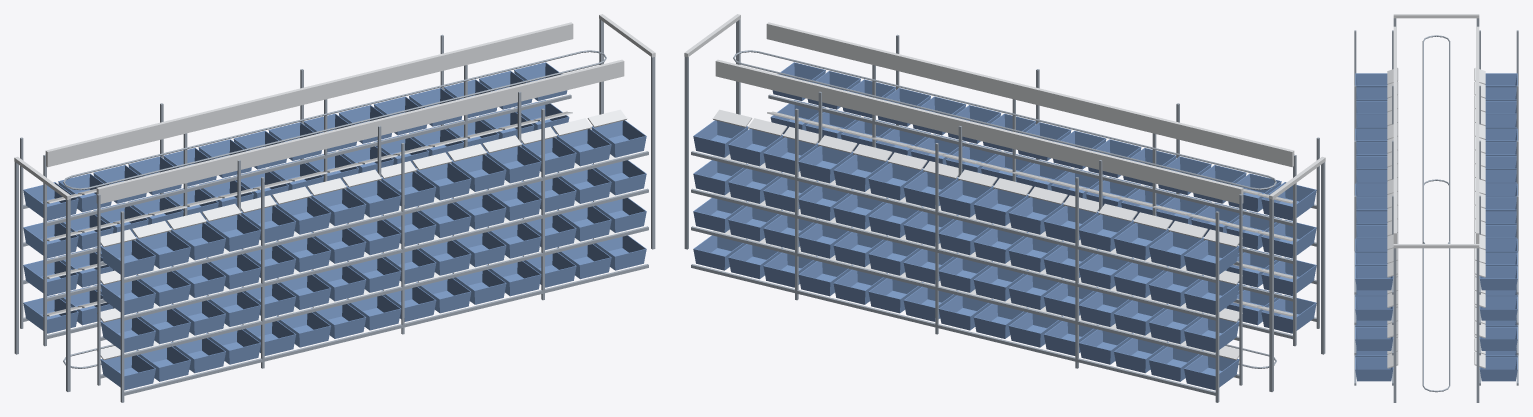
The model's file is SM_MPR_SorterSimBody120_LOD2.fbx.
3 views of the same model, side by side, from view 1: azimuth 30°, elevation 25°; view 2: azimuth 150°, elevation 25°; view 3: azimuth 270°, elevation 25° (orthographic). The views are drawn at different scales.
Visible parts, largest first — view 1: SM_MPR_SorterSimBody120_LOD2; view 2: SM_MPR_SorterSimBody120_LOD2; view 3: SM_MPR_SorterSimBody120_LOD2.
Boxes of the visible parts, <box> form: SM_MPR_SorterSimBody120_LOD2: <box>14,14,655,402</box>; SM_MPR_SorterSimBody120_LOD2: <box>684,14,1325,402</box>; SM_MPR_SorterSimBody120_LOD2: <box>1354,14,1518,402</box>.
Size of the model in its own units: 728 by 219 by 232.
